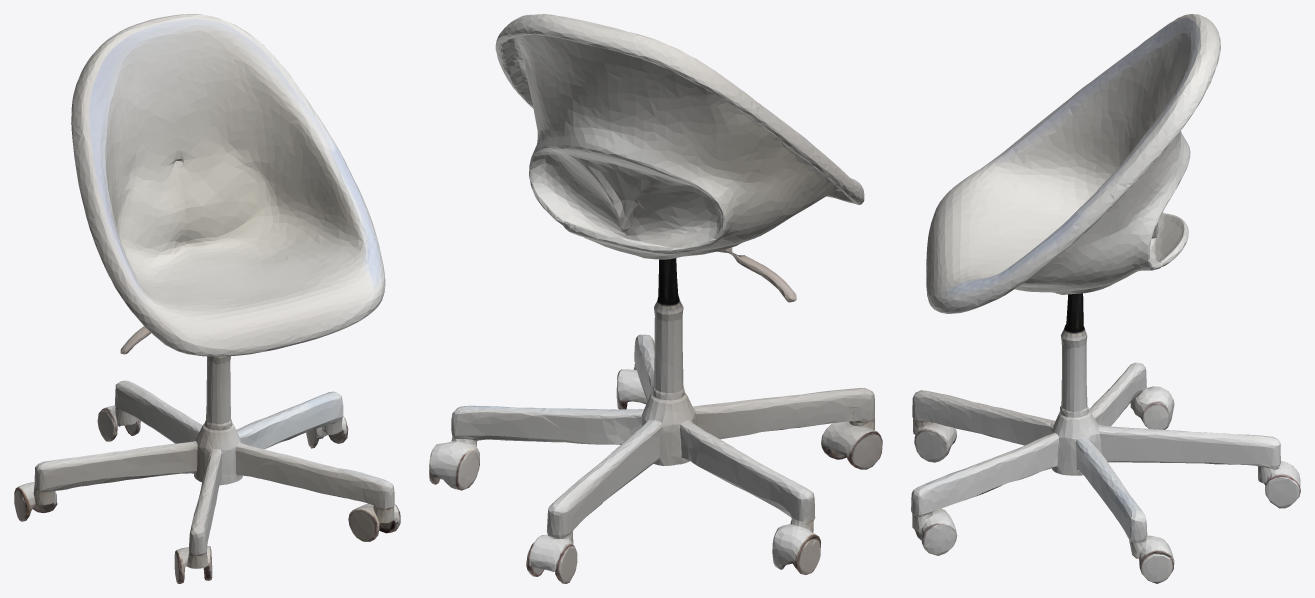
3 views of the same model, side by side, from view 1: azimuth 30°, elevation 25°; view 2: azimuth 150°, elevation 25°; view 3: azimuth 270°, elevation 25° (orthographic). The views are drawn at different scales.
Parts seen in each view (by area): view 1: world; view 2: world; view 3: world.
Boxes of the visible parts, x1,y1,x2,y2 form: world: [14, 14, 400, 583]; world: [429, 14, 882, 583]; world: [911, 14, 1300, 583].
Bounding box in the file's own units: 0.7616 × 1 × 0.7565.
1 material, 1 textured.
